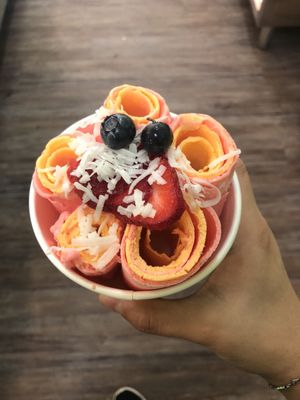sushi: (27, 88, 282, 300)
